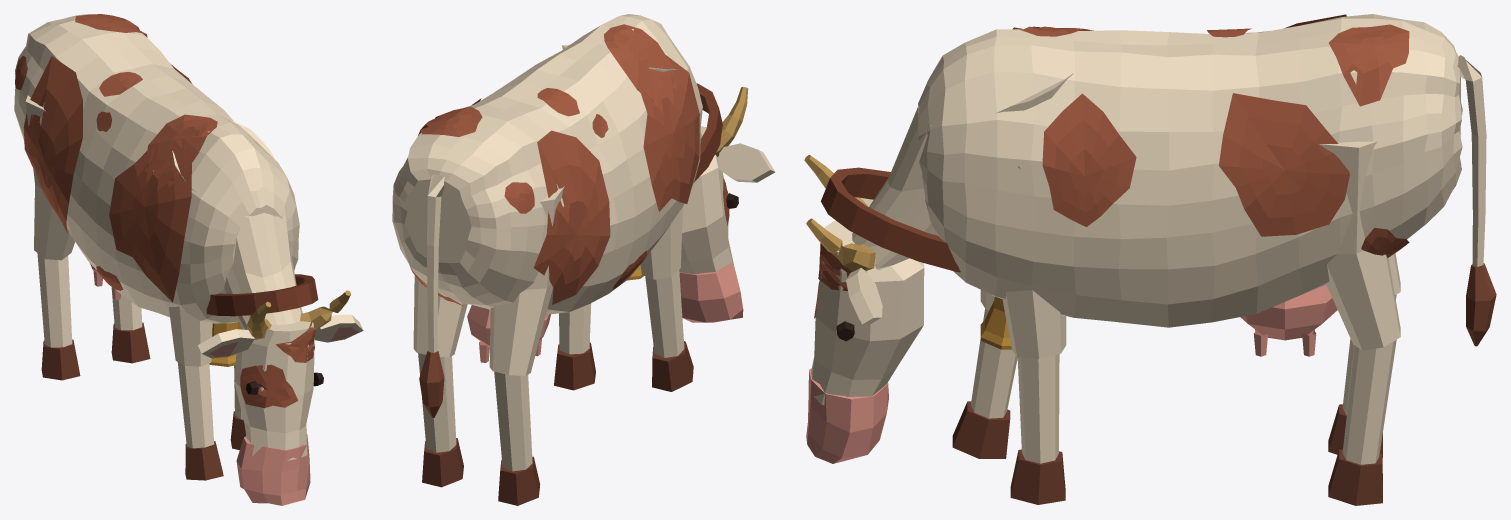
File: cow-feeding.glb
3 views of the same model, side by side, from view 1: azimuth 30°, elevation 25°; view 2: azimuth 150°, elevation 25°; view 3: azimuth 270°, elevation 25° (orthographic). The views are drawn at different scales.
Visible parts, largest first — view 1: body, body_patches, head, neck, muzzle, leg_hl_lower, head_patches, collar, leg_fl_lower, leg_hl_upper, leg_fl_upper, leg_hl_hoof (+9 smaller); view 2: body, body_patches, leg_hl_upper, head, leg_hl_lower, muzzle, leg_fl_lower, leg_hr_upper, tail, leg_hr_lower, leg_fl_upper, ear_r (+9 smaller); view 3: body, body_patches, head, leg_hr_upper, collar, muzzle, neck, leg_hr_lower, leg_fr_lower, udder, leg_fr_upper, tail (+9 smaller).
Part boxes in pixels (x1,y1,x2,y2): body: [14, 14, 299, 323]; body_patches: [15, 14, 217, 302]; head: [234, 321, 314, 460]; neck: [172, 120, 302, 329]; muzzle: [236, 434, 310, 505]; leg_hl_lower: [37, 253, 72, 347]; head_patches: [240, 322, 315, 408]; collar: [206, 274, 318, 316]; leg_fl_lower: [177, 362, 214, 448]; leg_hl_upper: [25, 95, 74, 260]; leg_fl_upper: [169, 306, 212, 366]; leg_hl_hoof: [41, 339, 80, 380]; body: [392, 14, 702, 314]; body_patches: [409, 24, 699, 306]; leg_hl_upper: [489, 186, 564, 375]; head: [679, 126, 733, 274]; leg_hl_lower: [494, 371, 532, 471]; muzzle: [679, 261, 743, 322]; leg_fl_lower: [645, 270, 684, 357]; leg_hr_upper: [413, 275, 467, 357]; tail: [427, 174, 444, 352]; leg_hr_lower: [418, 353, 456, 452]; leg_fl_upper: [640, 207, 682, 279]; ear_r: [717, 143, 775, 182]; body: [918, 14, 1462, 327]; body_patches: [1012, 14, 1409, 257]; head: [809, 220, 924, 405]; leg_hr_upper: [1319, 141, 1400, 350]; collar: [821, 167, 960, 272]; muzzle: [806, 368, 888, 463]; neck: [852, 73, 1073, 270]; leg_hr_lower: [1342, 340, 1396, 464]; leg_fr_lower: [1017, 354, 1059, 463]; udder: [1240, 285, 1337, 356]; leg_fr_upper: [1002, 166, 1066, 358]; tail: [1457, 55, 1486, 266].
Bounding box in the file's own units: 0.7251 × 1.43 × 2.01.
